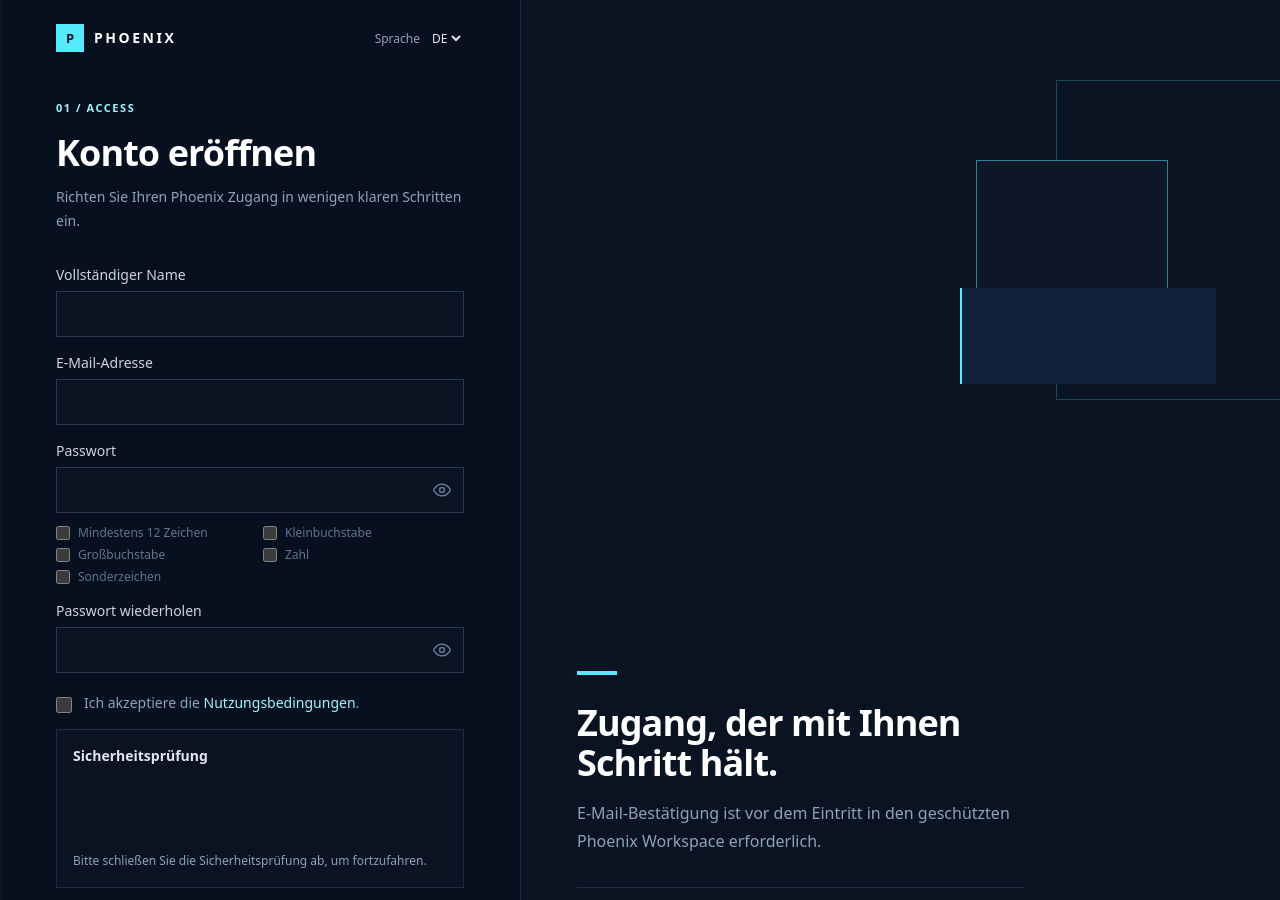
it: AuthPage › shows each password requirement as it is satisfied while registering
This screenshot has width=1280, height=900.
Check: the checkbox labelled "Mindestens 12 Zeichen" is not checked, box [56,526,70,540]
Check: the checkbox labelled "Kleinbuchstabe" is not checked, box [263,526,277,540]
Type "PhoenixSecure12!" into the password field labelled "Passwort" at {"x": 260, "y": 490}, box [56,466,464,512]
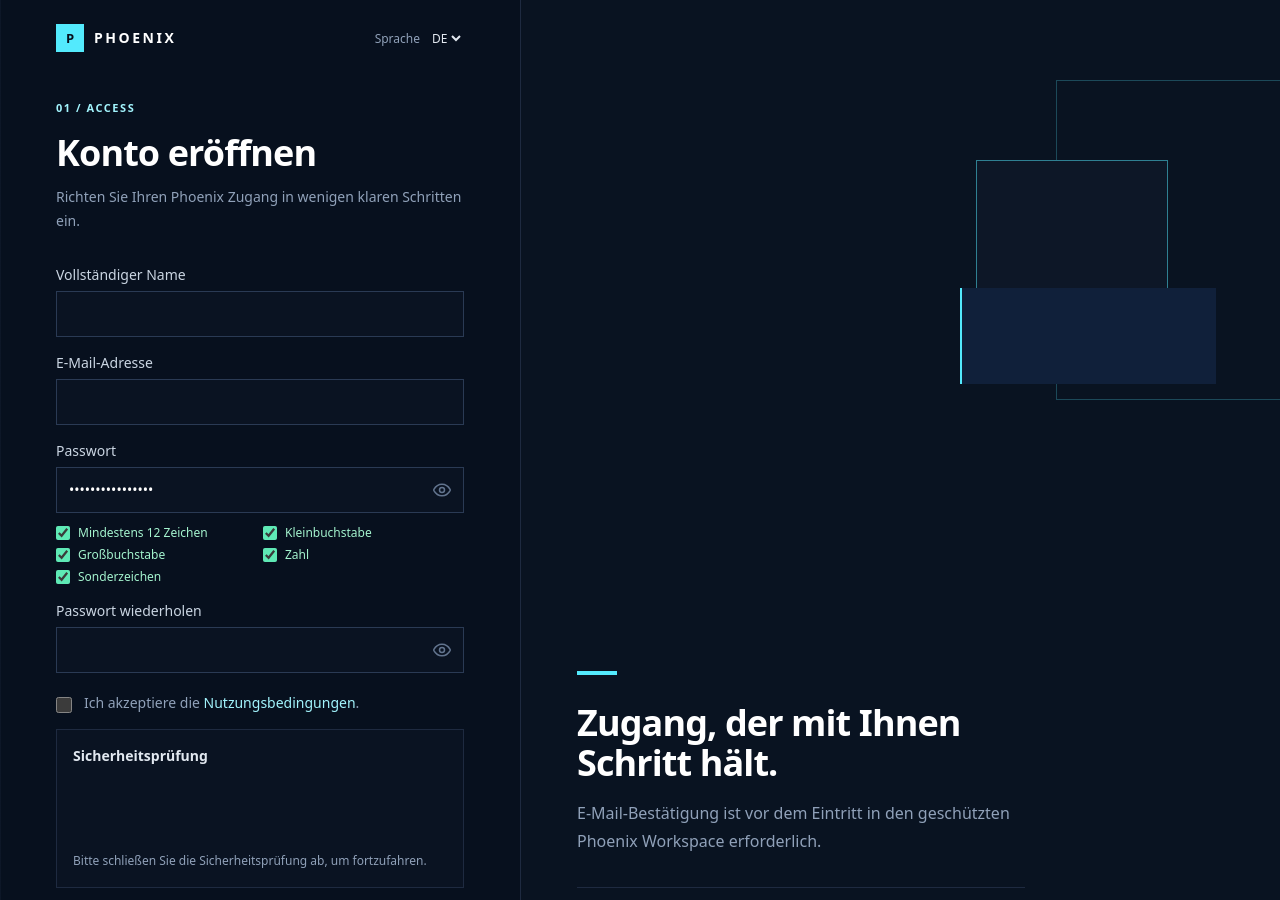
Check: the checkbox labelled "Mindestens 12 Zeichen" is checked, box [56,526,70,540]
Check: the checkbox labelled "Kleinbuchstabe" is checked, box [263,526,277,540]
Check: the checkbox labelled "Großbuchstabe" is checked, box [56,548,70,562]
